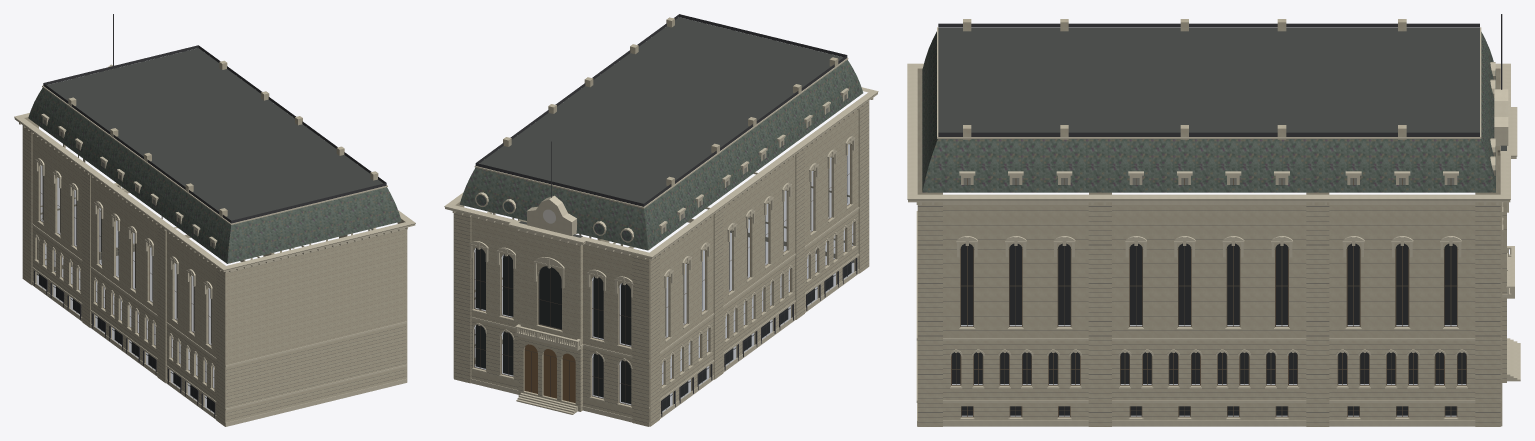
File: chamber_of_commerce_1871__chamber_1865_1871.glb
The picture shows the model from 3 angles, left to right: view 1: azimuth 30°, elevation 25°; view 2: azimuth 150°, elevation 25°; view 3: azimuth 270°, elevation 25°; orthographic projection. The views are drawn at different scales.
Visible parts, largest first — view 1: chamber_of_commerce_1871__chamber_1865_1871; view 2: chamber_of_commerce_1871__chamber_1865_1871; view 3: chamber_of_commerce_1871__chamber_1865_1871.
Boxes of the visible parts, x1,y1,x2,y2 form: chamber_of_commerce_1871__chamber_1865_1871: (14,14,415,426); chamber_of_commerce_1871__chamber_1865_1871: (444,14,878,426); chamber_of_commerce_1871__chamber_1865_1871: (907,14,1520,426).
Bounding box in the file's own units: 30.27 × 36.4 × 58.01.
11 materials, 3 textured.
